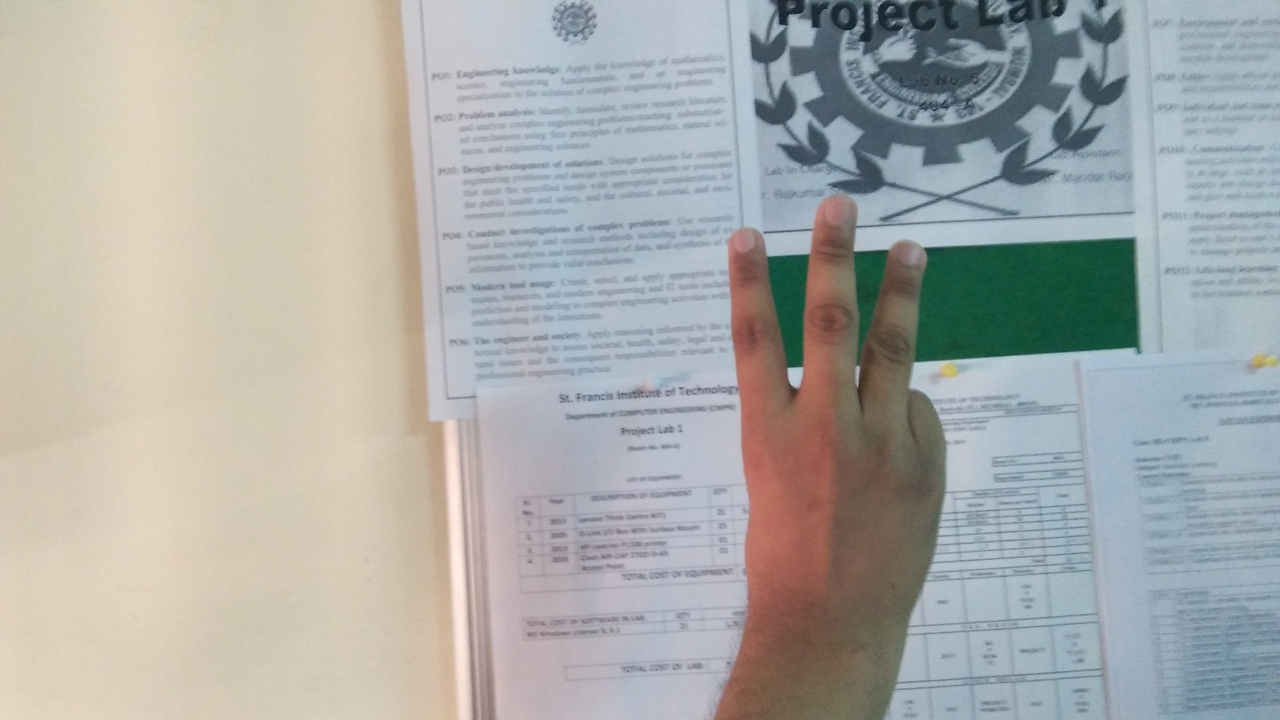fingertip: (806, 176, 866, 236), (878, 230, 936, 280), (722, 218, 778, 266)
